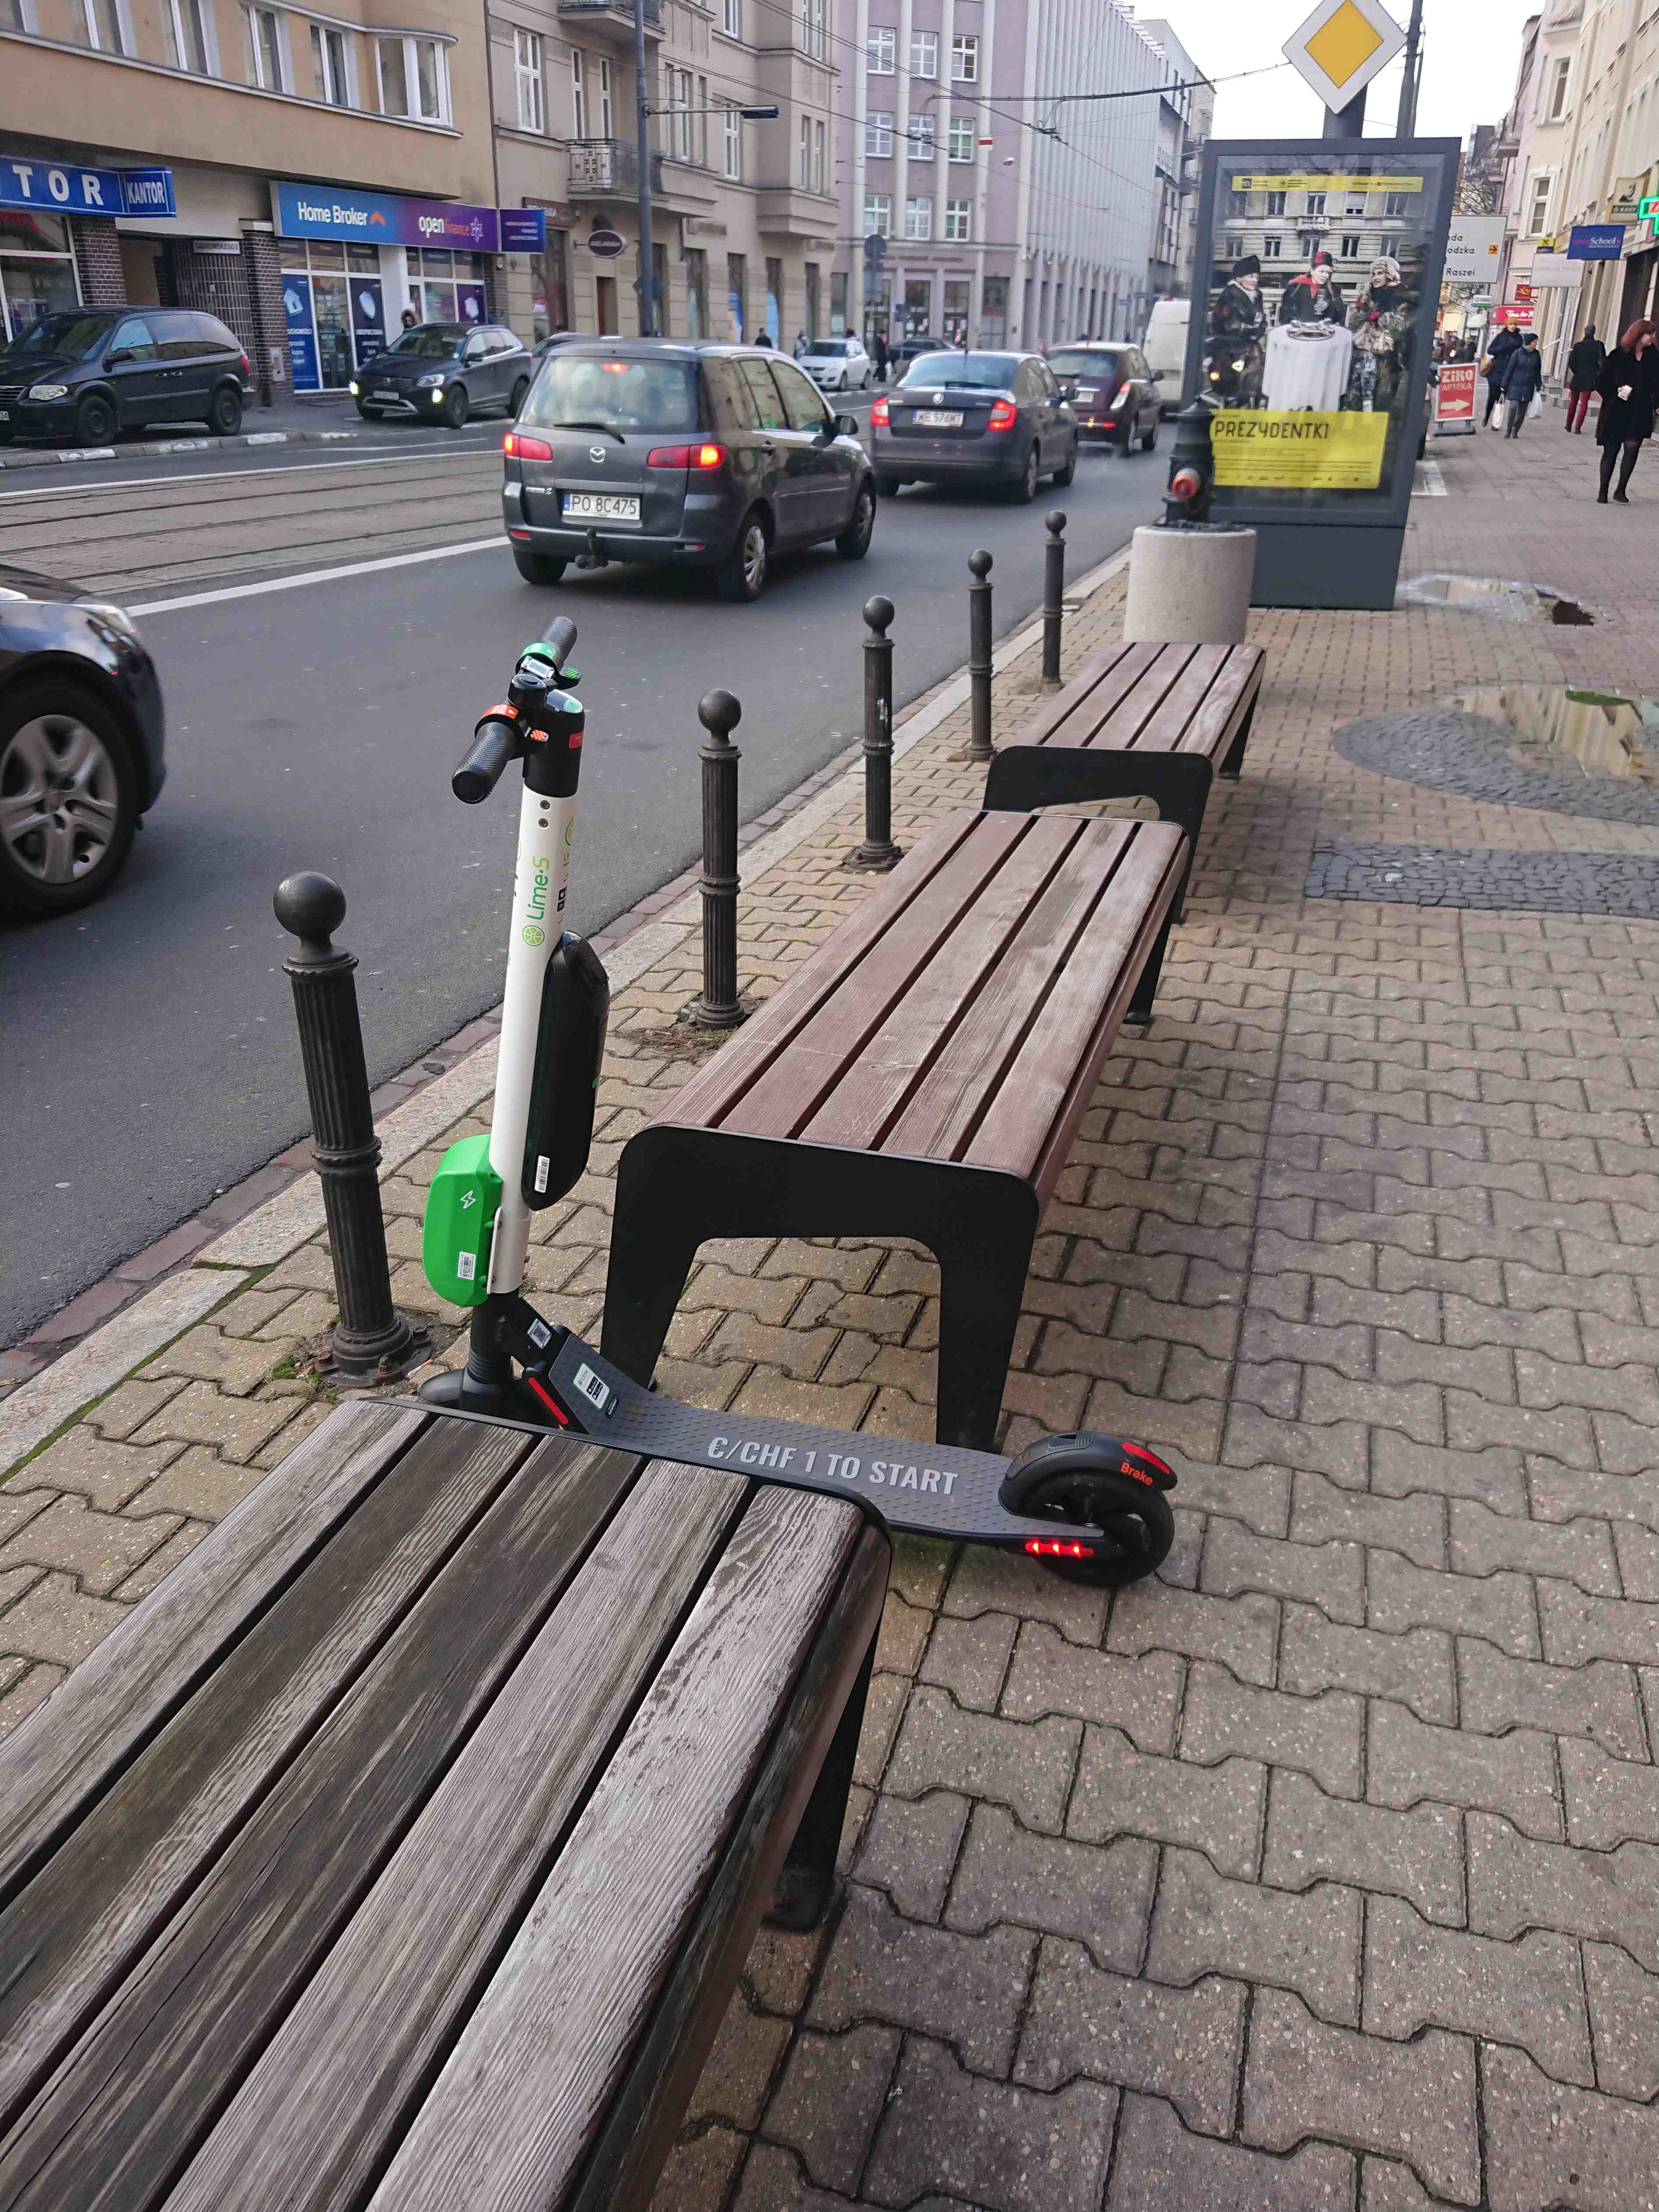scooter: (408, 587, 1216, 1594)
